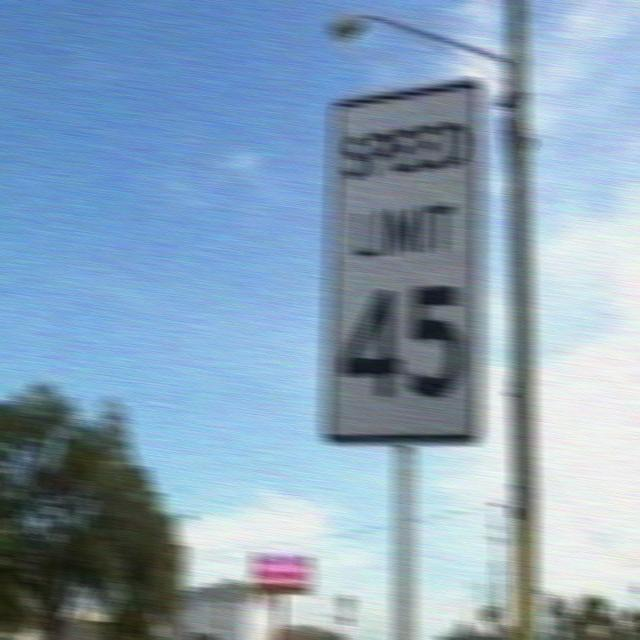speedLimit45: (322, 92, 487, 450)
